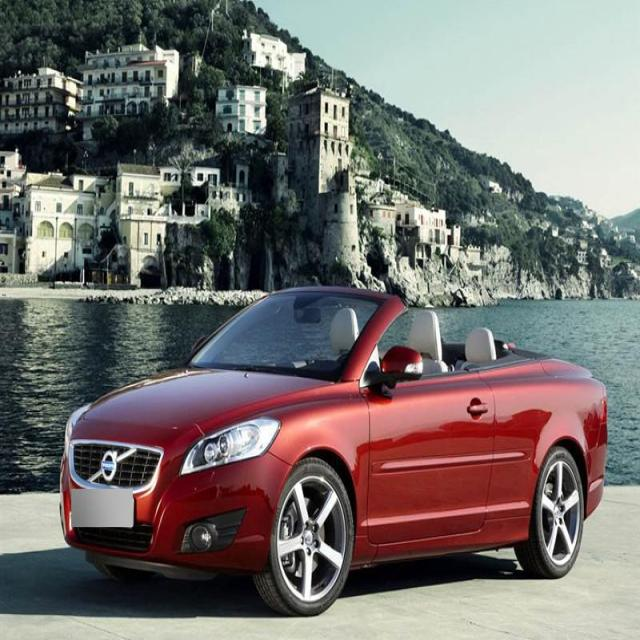front_glass: (184, 292, 390, 385)
front_left_side_door: (364, 369, 498, 549)
front_left_side_light: (179, 414, 281, 480)
front_left_side_mirror: (380, 342, 426, 385)
front_right_side_light: (64, 402, 90, 459)
wheel: (255, 456, 354, 617), (514, 448, 584, 576)
